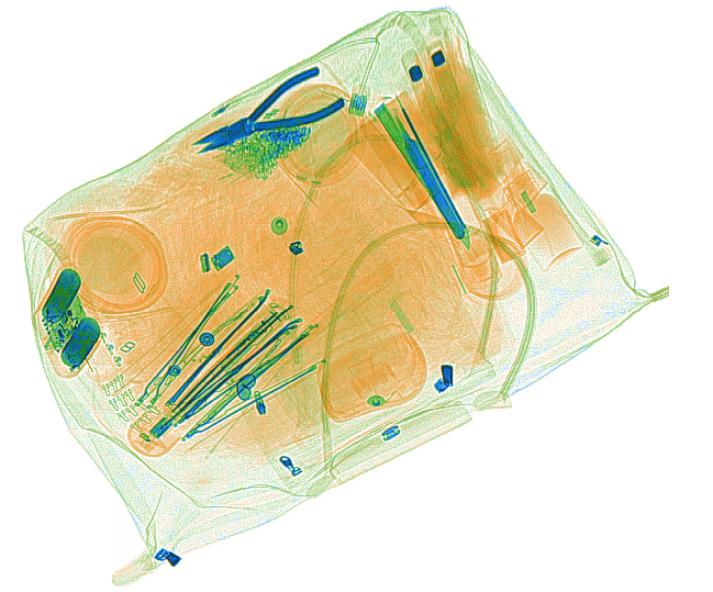battery: (32, 265, 104, 379)
knife: (370, 104, 470, 249)
plasticBottleWithaNozzle: (489, 144, 583, 272)
